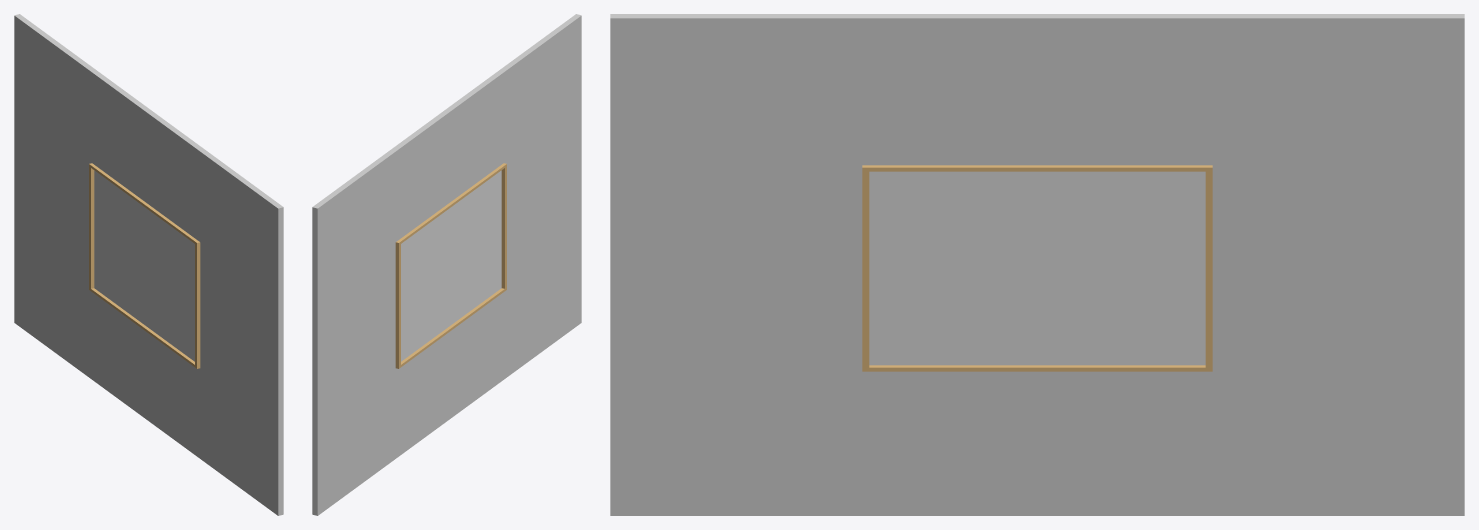
Rendered from MonitorWithWall.fbx.
The picture shows the model from 3 angles, left to right: view 1: azimuth 30°, elevation 25°; view 2: azimuth 150°, elevation 25°; view 3: azimuth 270°, elevation 25°; orthographic projection. The views are drawn at different scales.
Parts seen in each view (by area): view 1: wall, Glass, Cube; view 2: wall, Glass, Cube; view 3: wall, Glass, Cube.
Boxes of the visible parts, x1,y1,x2,y2 form: wall: (14,14,283,515); Glass: (94,170,194,361); Cube: (89,163,200,368); wall: (312,14,581,515); Glass: (401,170,501,361); Cube: (395,163,506,368); wall: (610,14,1464,515); Glass: (869,171,1205,365); Cube: (862,165,1212,371).
Bounding box in the file's own units: 820 × 20257 × 31534.
